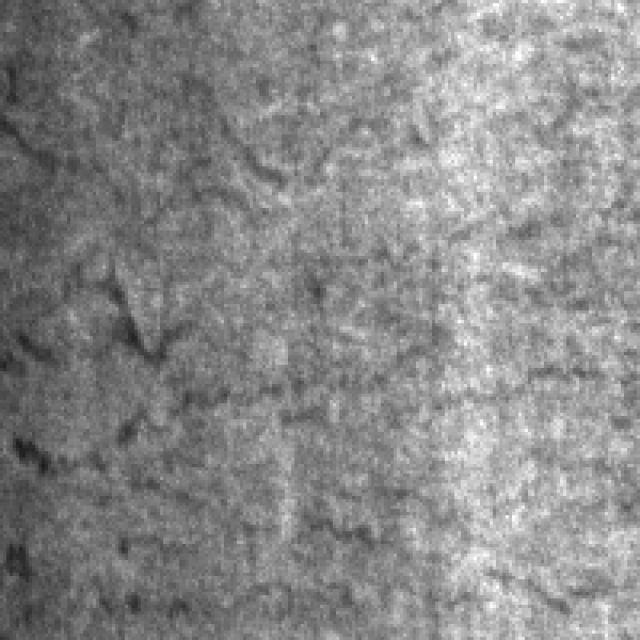crazing: (13, 266, 614, 630), (22, 61, 452, 218)
